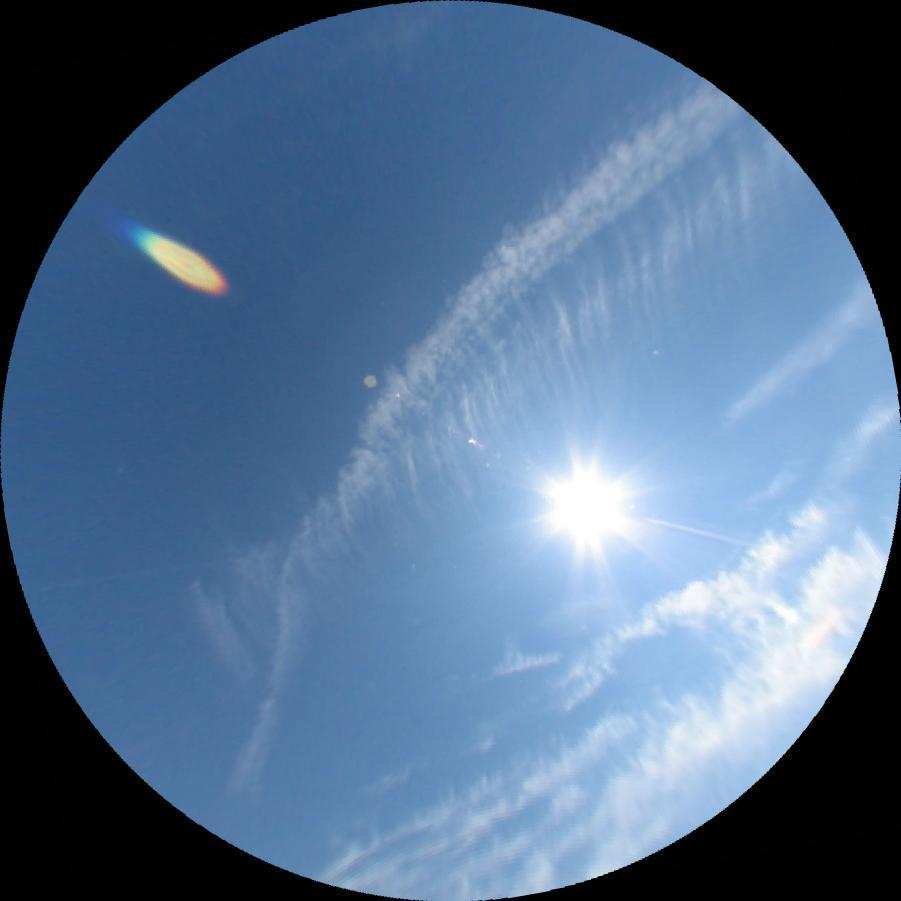contrail veryold: (122, 27, 751, 813), (168, 105, 831, 708), (715, 276, 891, 448)
parasite: (644, 517, 752, 547)
sun: (555, 474, 621, 540)
